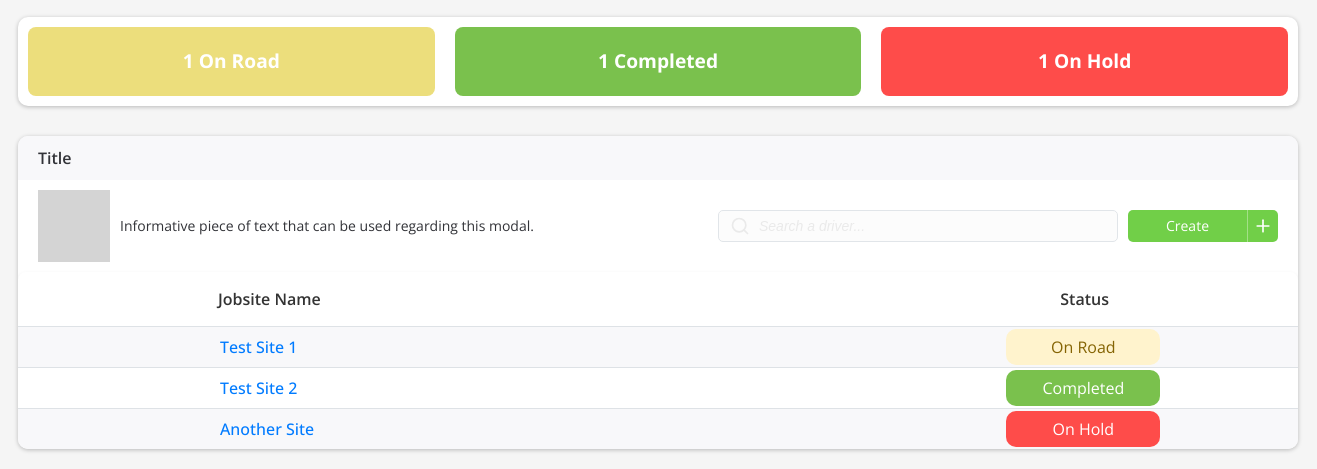
Test: JobSitesPage Component › filters job sites based on search term
In the field with placeholder "Search a driver...": (918, 226) [718, 210, 1118, 242], type "Test"
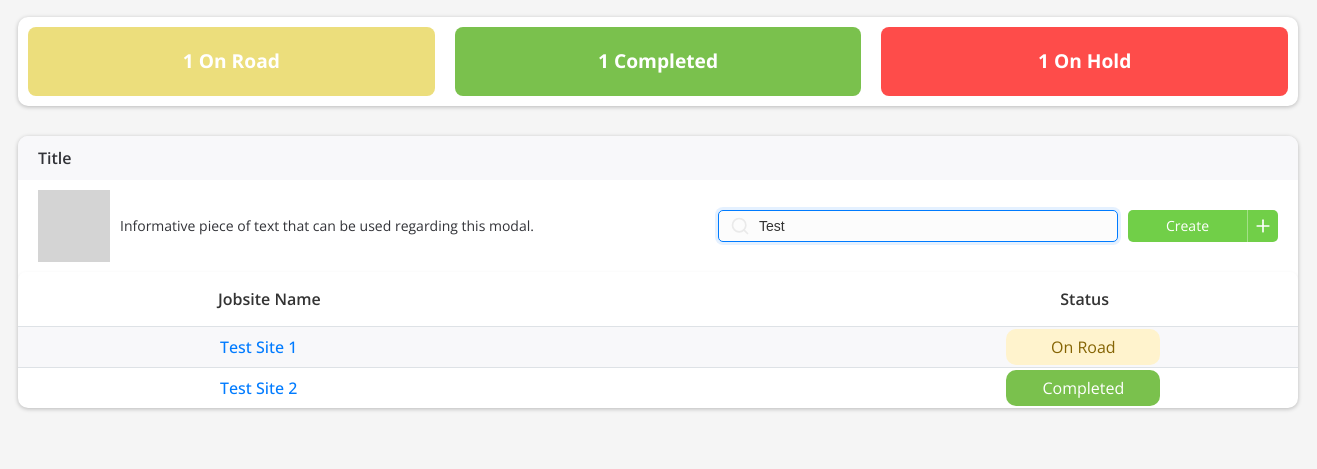
Expected: the link "Test Site 1" is shown, [220, 336, 297, 358]
Now the link "Another Site" is gone
